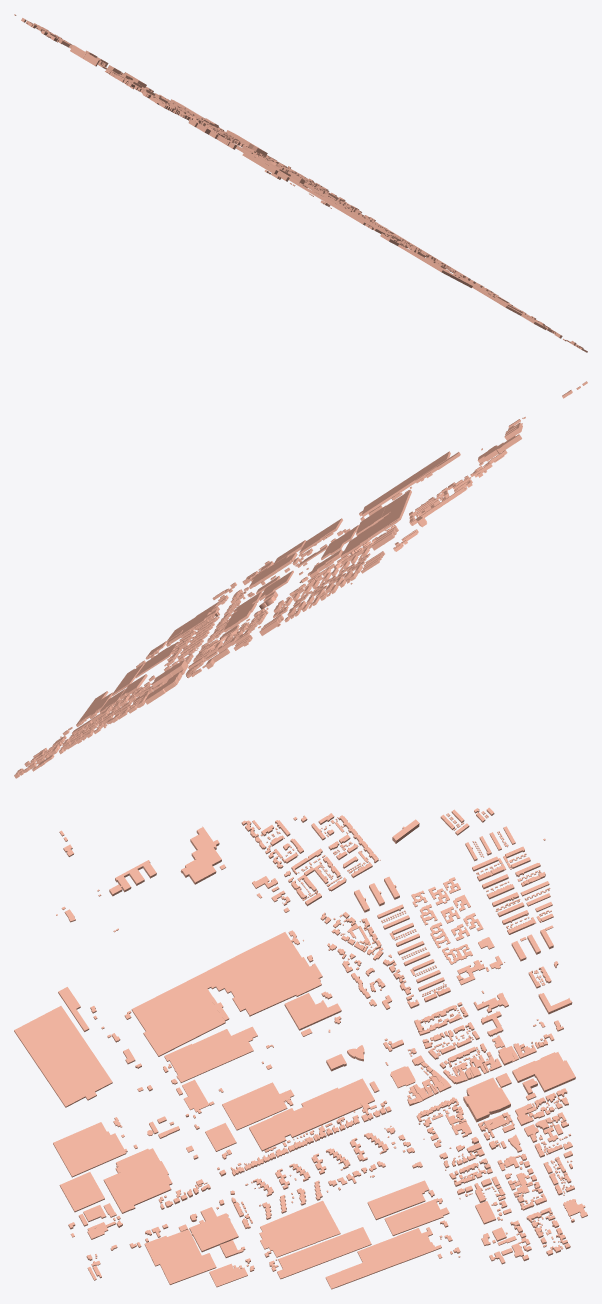
3 renders of one model, top to bottom at view 1: azimuth 30°, elevation 25°; view 2: azimuth 150°, elevation 25°; view 3: azimuth 270°, elevation 25°, orthographic. The views are drawn at different scales.
Size of the model in its own units: 1039 by 782 by 1358.
